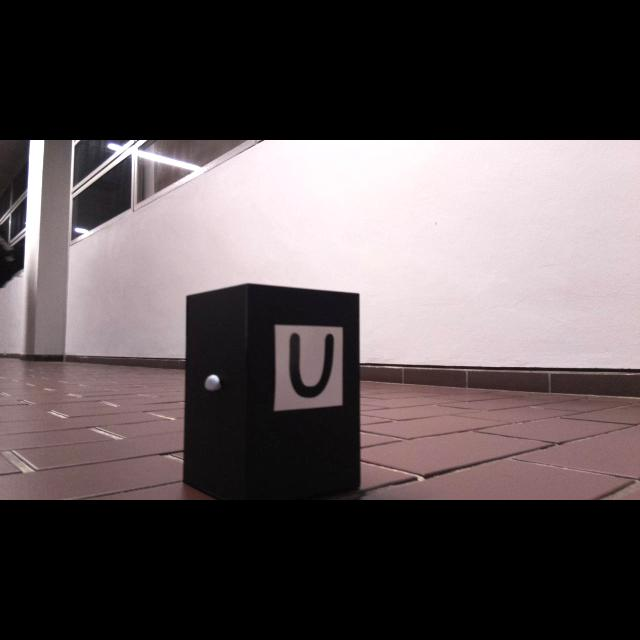U: (289, 333, 334, 399)
